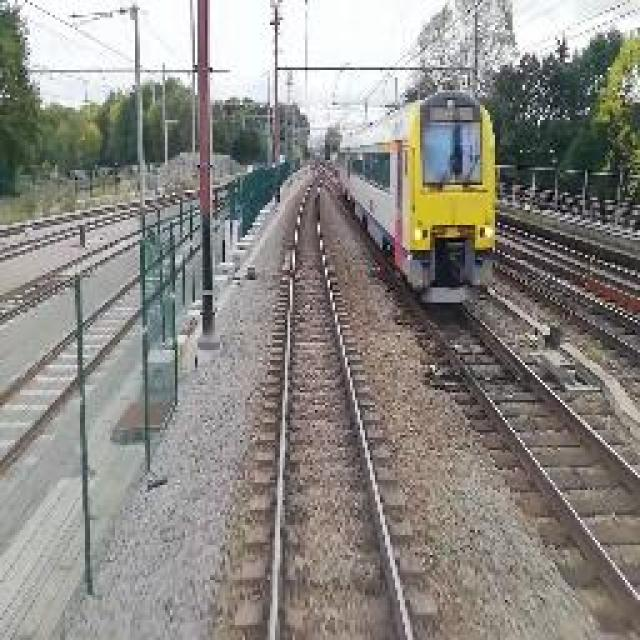danger: (330, 88, 499, 324)
rail: (325, 157, 640, 640), (224, 164, 448, 638)
